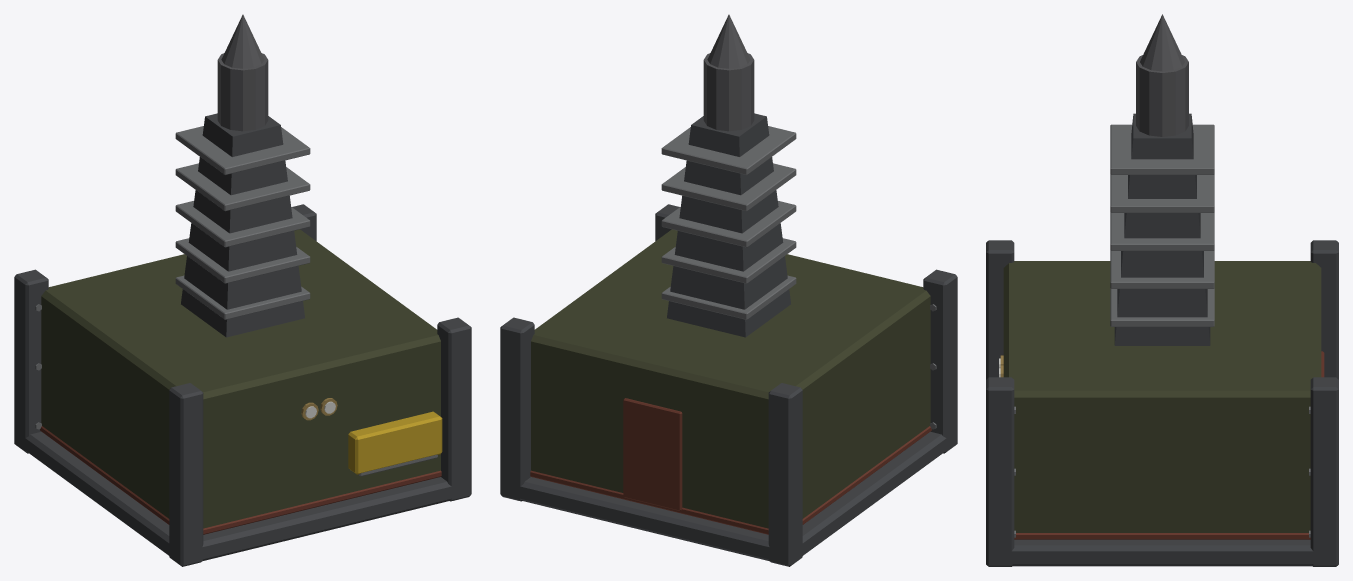
Rendered from miner_mk1.glb.
3 views of the same model, side by side, from view 1: azimuth 30°, elevation 25°; view 2: azimuth 150°, elevation 25°; view 3: azimuth 270°, elevation 25° (orthographic). The views are drawn at different scales.
Parts seen in each view (by area): view 1: miner_mk1_OliveDrab, miner_mk1_CastIron, miner_mk1_WeldedSteel, miner_mk1_OiledSteel, miner_mk1_HazardYellow, miner_mk1_OxideRed; view 2: miner_mk1_OliveDrab, miner_mk1_CastIron, miner_mk1_WeldedSteel, miner_mk1_OxideRed, miner_mk1_OiledSteel; view 3: miner_mk1_OliveDrab, miner_mk1_CastIron, miner_mk1_WeldedSteel, miner_mk1_OiledSteel, miner_mk1_OxideRed.
Boxes of the visible parts, box(x1,y1,x2,y2) form: miner_mk1_OliveDrab: box(41, 229, 440, 528); miner_mk1_CastIron: box(14, 113, 471, 566); miner_mk1_WeldedSteel: box(35, 126, 437, 476); miner_mk1_OiledSteel: box(217, 14, 268, 131); miner_mk1_HazardYellow: box(348, 411, 442, 474); miner_mk1_OxideRed: box(40, 426, 441, 534); miner_mk1_OliveDrab: box(531, 229, 930, 528); miner_mk1_CastIron: box(500, 113, 957, 566); miner_mk1_WeldedSteel: box(661, 126, 936, 429); miner_mk1_OxideRed: box(530, 398, 931, 534); miner_mk1_OiledSteel: box(703, 14, 754, 131); miner_mk1_OliveDrab: box(1003, 261, 1321, 532); miner_mk1_CastIron: box(986, 113, 1338, 566); miner_mk1_WeldedSteel: box(1014, 124, 1310, 537); miner_mk1_OiledSteel: box(1136, 14, 1188, 136); miner_mk1_OxideRed: box(1014, 351, 1324, 539).
Size of the model in its own units: 4 by 6 by 4.
